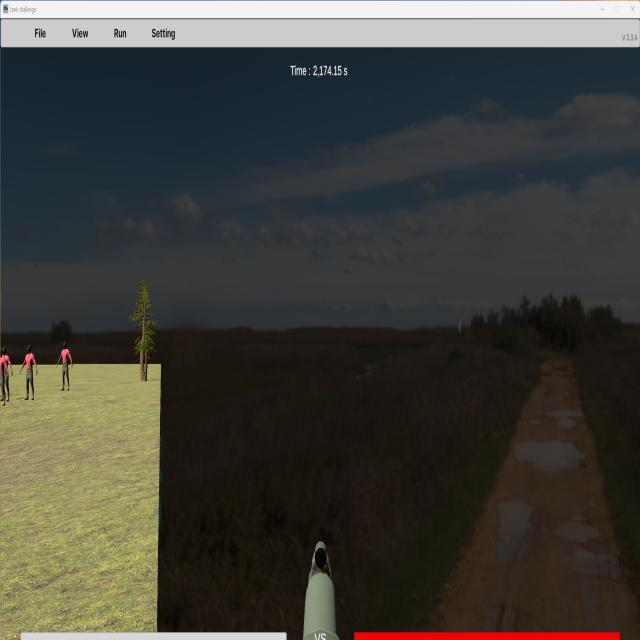Human: (20, 344, 37, 401), (57, 341, 73, 391), (0, 347, 10, 404)
